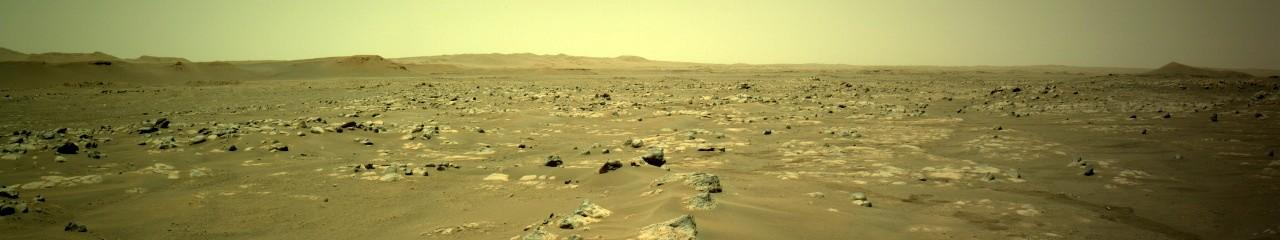bedrock: (4, 77, 1279, 238), (1113, 175, 1127, 184)
big_rock: (715, 65, 1190, 77), (506, 70, 713, 82)
sand: (721, 188, 822, 228)
soil: (924, 235, 1265, 238), (1274, 182, 1276, 236)
